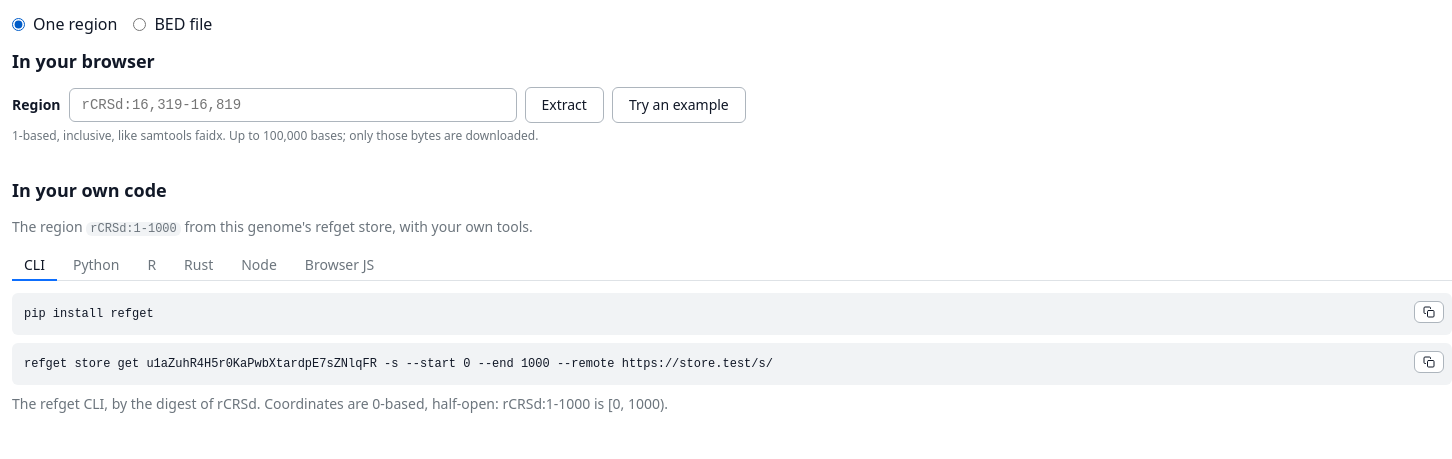
Test: ExtractPanel › shows an error with a suggestion for an unknown name
Type "rcrsd:1-10" into the field labelled "Region".
click(292, 105); type("rcrsd:1-10")  # box [68, 88, 516, 122]
Then press Enter
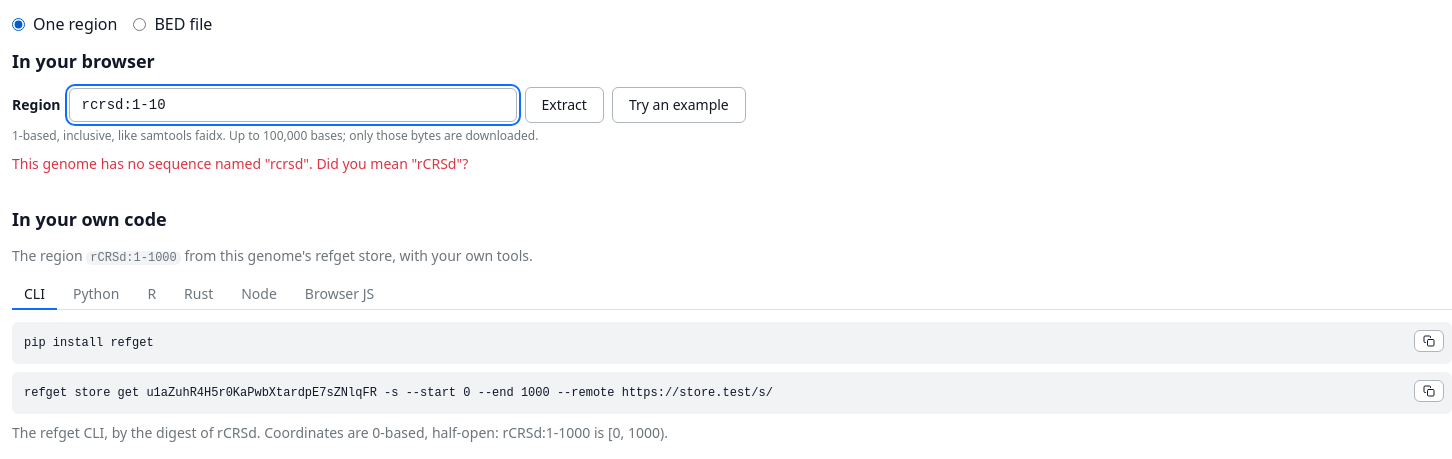
Now the message shows "Did you mean \"rCRSd\"?", box [12, 154, 468, 172]
